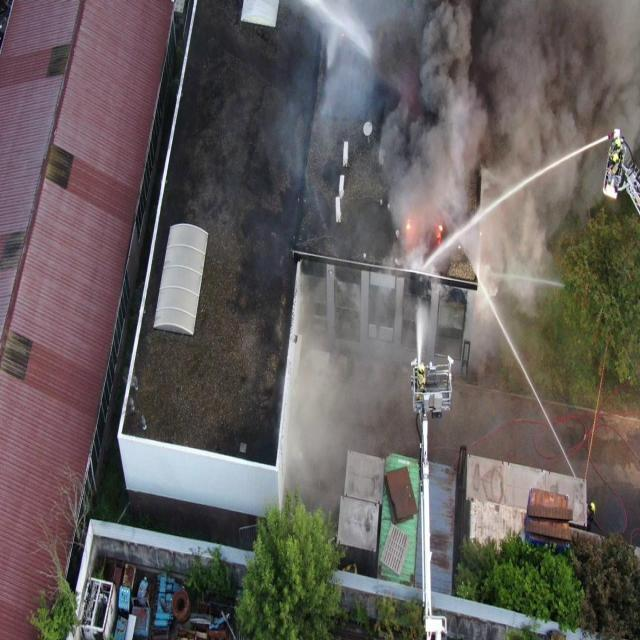Fire: (406, 220, 410, 230), (438, 224, 443, 231)
Smoke: (279, 0, 640, 508)
